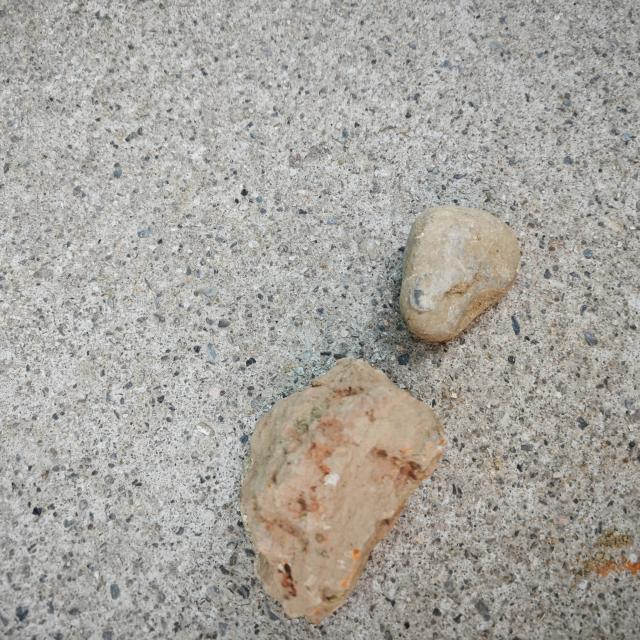-Other waste - brick-: (242, 354, 446, 615)
-Other waste - pebble-: (398, 204, 525, 340)
